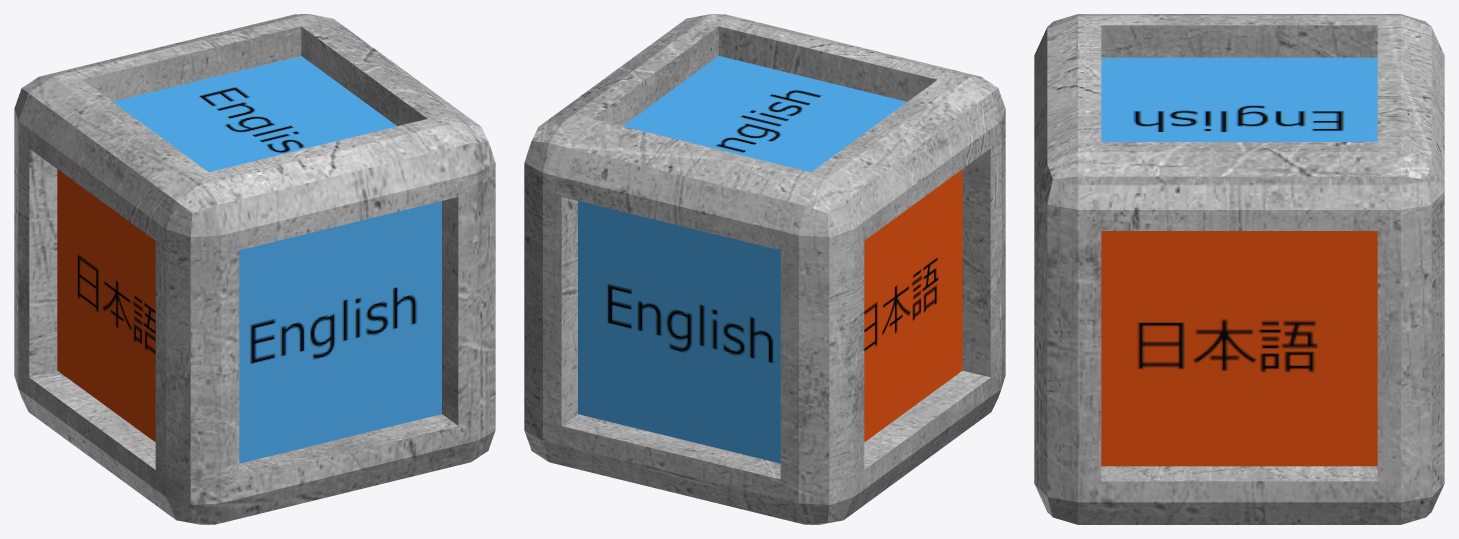
The model's file is JAPENG Cube texture.fbx.
The picture shows the model from 3 angles, left to right: view 1: azimuth 30°, elevation 25°; view 2: azimuth 150°, elevation 25°; view 3: azimuth 270°, elevation 25°; orthographic projection. The views are drawn at different scales.
Parts seen in each view (by area): view 1: Cube; view 2: Cube; view 3: Cube.
Boxes of the visible parts, left/top/right/bottom form: Cube: left=14, top=14, right=495, bottom=524; Cube: left=524, top=14, right=1005, bottom=524; Cube: left=1034, top=14, right=1444, bottom=524.
Size of the model in its own units: 200 by 200 by 200.
1 material, 1 textured.
